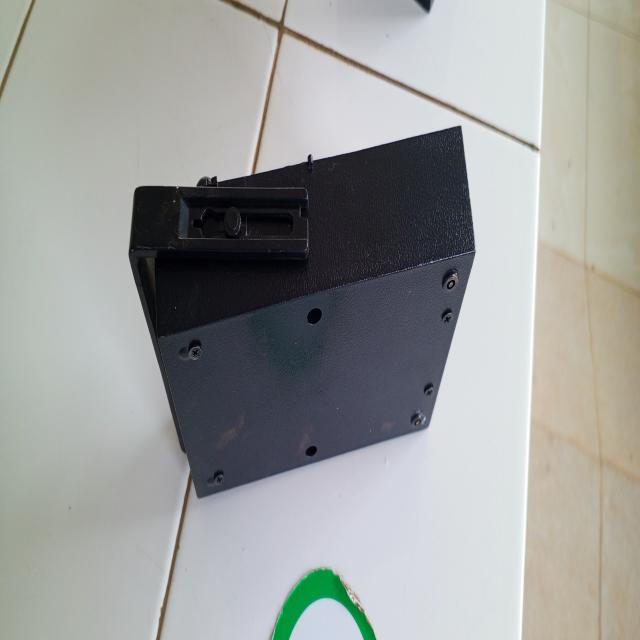Set of Resistances: (113, 109, 480, 499)
